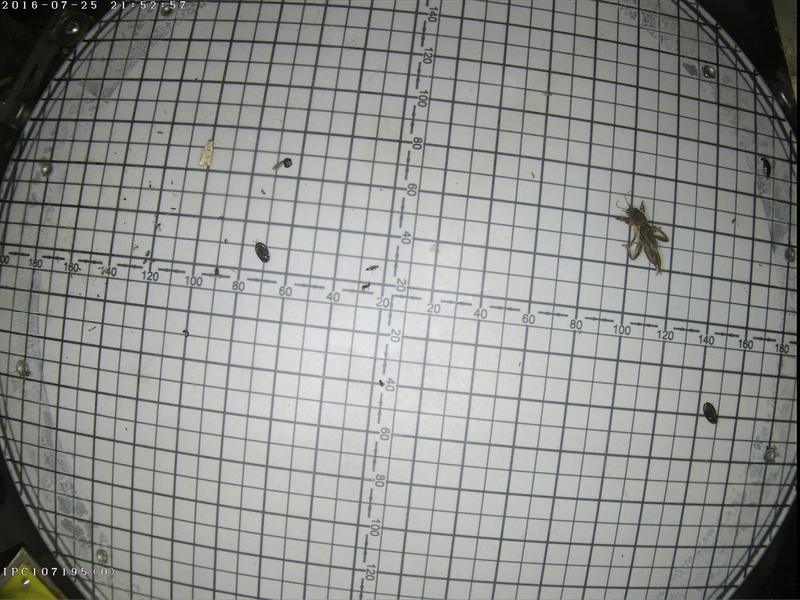Gryllotalpa orientalis: (621, 196, 667, 275)
